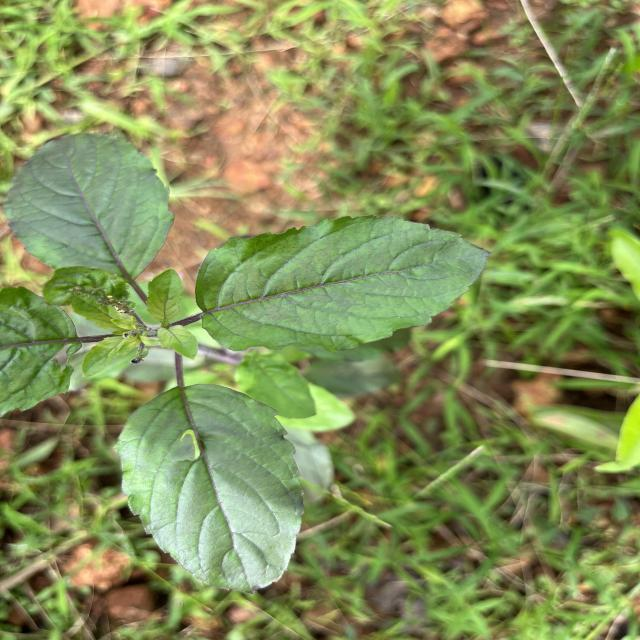Ocimum tenuiflorum: (184, 210, 496, 357), (110, 380, 311, 600)
